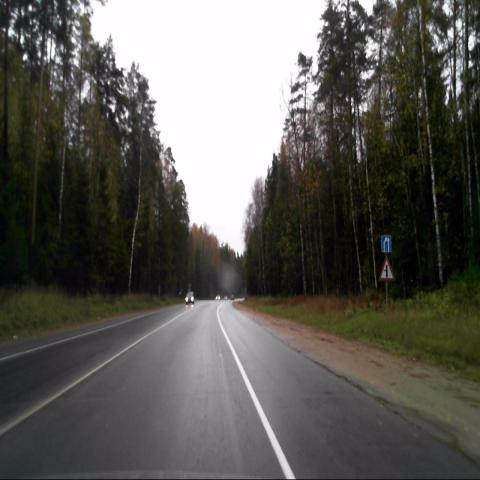2_3_3: (378, 256, 395, 281)
